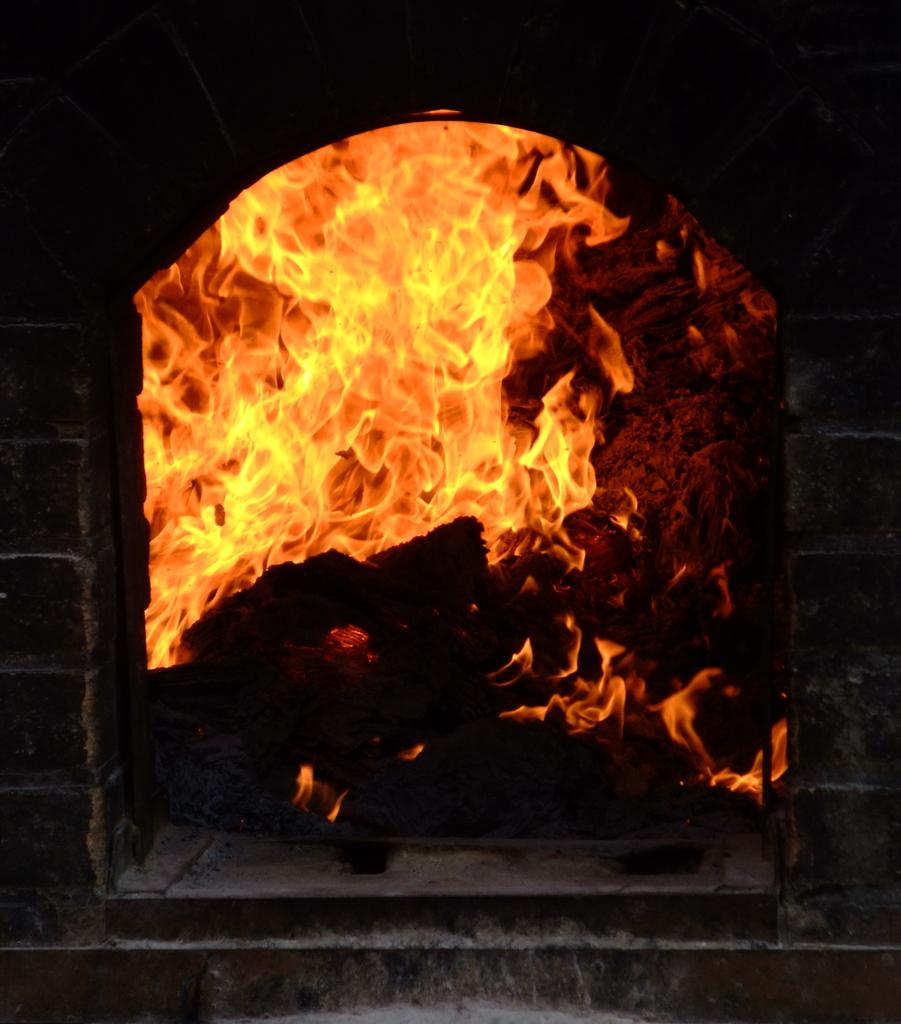Fire: (98, 111, 787, 794)
